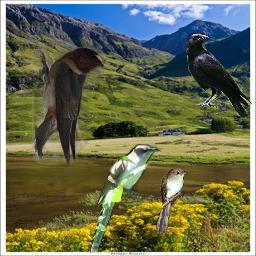Crow: (186, 33, 252, 118)
Cuckoo: (90, 144, 161, 253), (156, 167, 188, 234)
Swallow: (32, 47, 104, 165)
